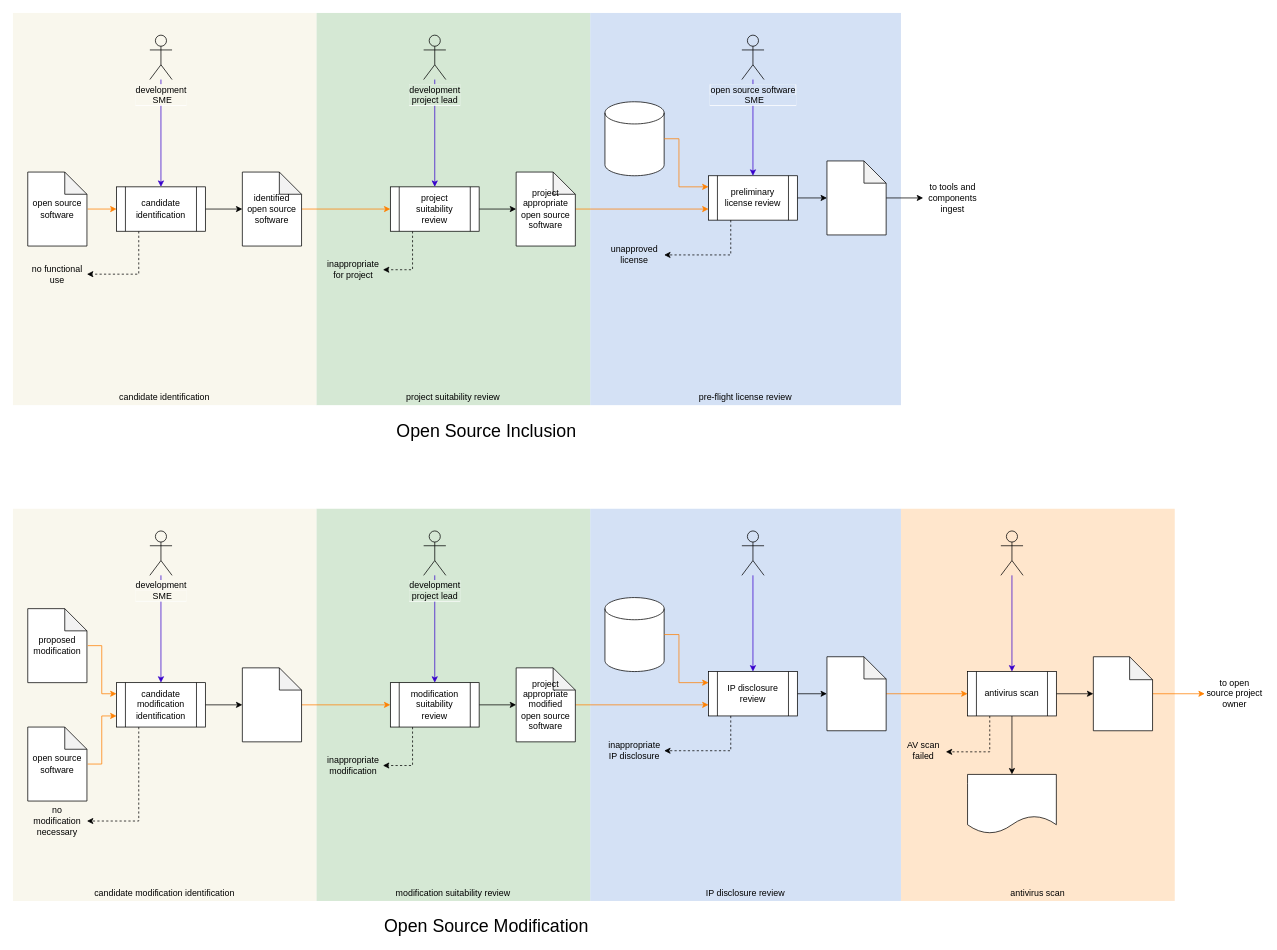
The diagram is 1277 pixels wide and 950 high, and some of its shapes have lost their labels. Each missing label, with the centre of its shape:
"antivirus scan report" belongs at point 1011,804.
"antivirus scanned modified open source software" belongs at point 1123,693.
"devops SME" belongs at point 1011,552.
"individual license approved open source software" belongs at point 856,197.
"IP disclosure approved modified open source software" belongs at point 856,693.
"legal SME" belongs at point 752,552.
"open source license database" belongs at point 634,138.
"organization IP database" belongs at point 634,634.
"proposed modified open source software" belongs at point 272,704.
